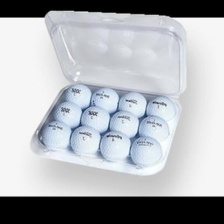plastic_box: (24, 4, 196, 180)
